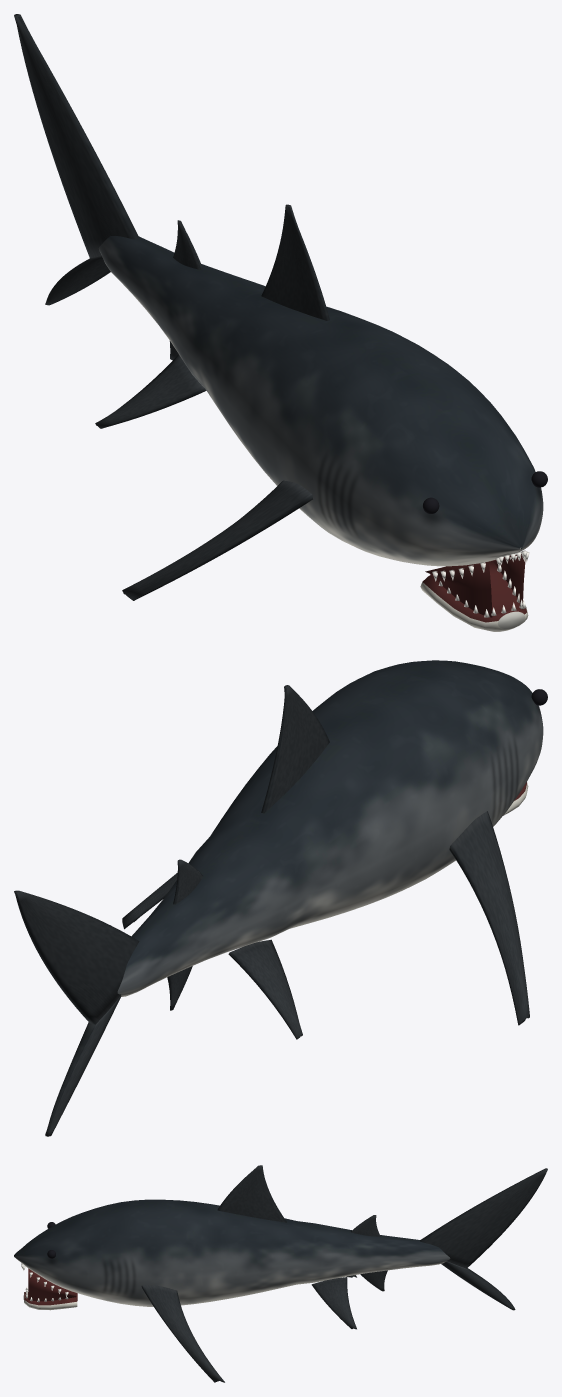
File: predator_v3_phase1.glb
The picture shows the model from 3 angles, top to bottom: view 1: azimuth 30°, elevation 25°; view 2: azimuth 150°, elevation 25°; view 3: azimuth 270°, elevation 25°; orthographic projection. The views are drawn at different scales.
Visible parts, largest first — view 1: predator_reef_shark; view 2: predator_reef_shark; view 3: predator_reef_shark.
Part boxes in pixels (x1,y1,x2,y2): predator_reef_shark: (14,14,547,631); predator_reef_shark: (14,660,547,1136); predator_reef_shark: (14,1165,547,1382).
Bounding box in the file's own units: 2.43 × 1.81 × 5.24.
Materials: 4 (1 with a texture image).
